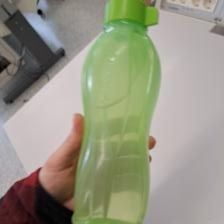bottle: (68, 1, 166, 223)
